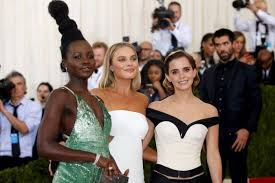middle_eastern_male: (212, 27, 240, 63)
